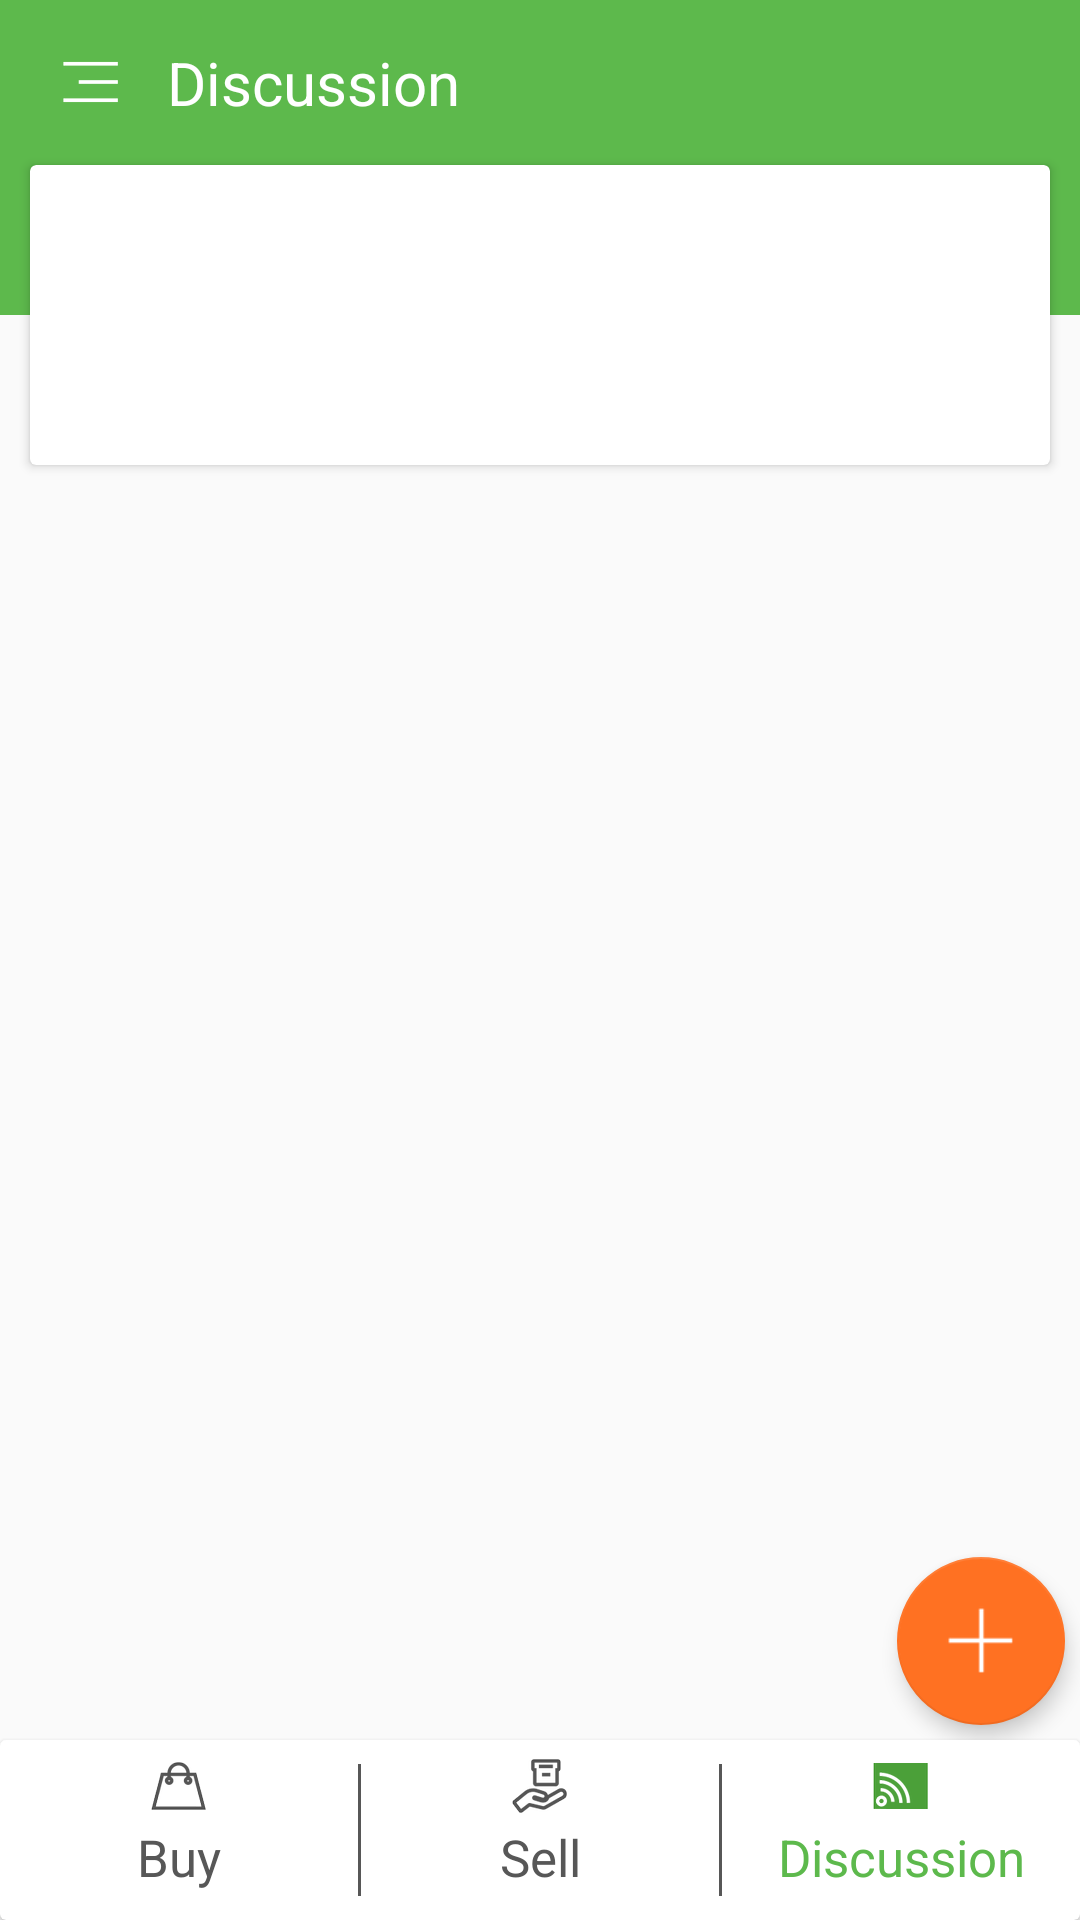

Icon bounding boxes for this 1080w x 1920h phone screenshot, format (x1, y1, x2, y2):
add post: (897, 1557, 1065, 1725)
navigation: (63, 62, 118, 102)
